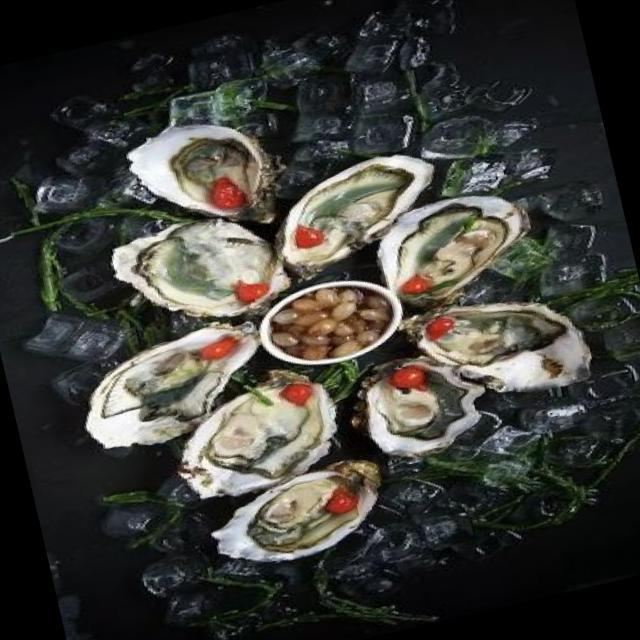Oyster-Open: (64, 314, 280, 461), (391, 276, 600, 422), (156, 358, 353, 510), (100, 198, 296, 346), (264, 142, 455, 287), (198, 452, 400, 576), (114, 106, 282, 252), (361, 181, 540, 315), (344, 338, 500, 474)
